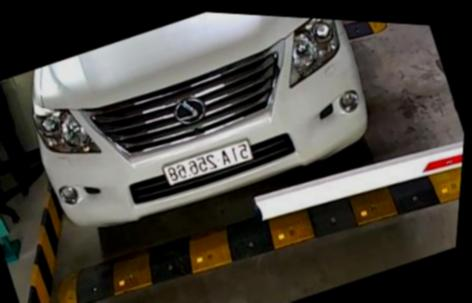License_Plate: (151, 138, 257, 202)
